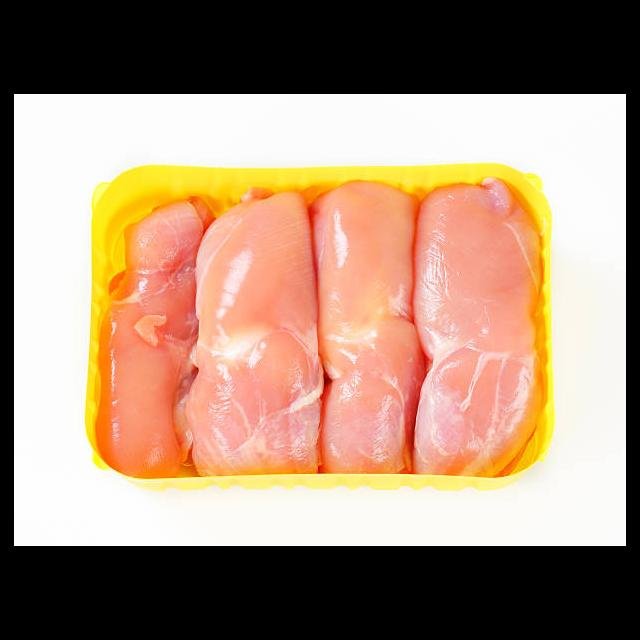chicken: (180, 184, 320, 479), (97, 193, 229, 476), (412, 183, 539, 476), (317, 179, 424, 474)
